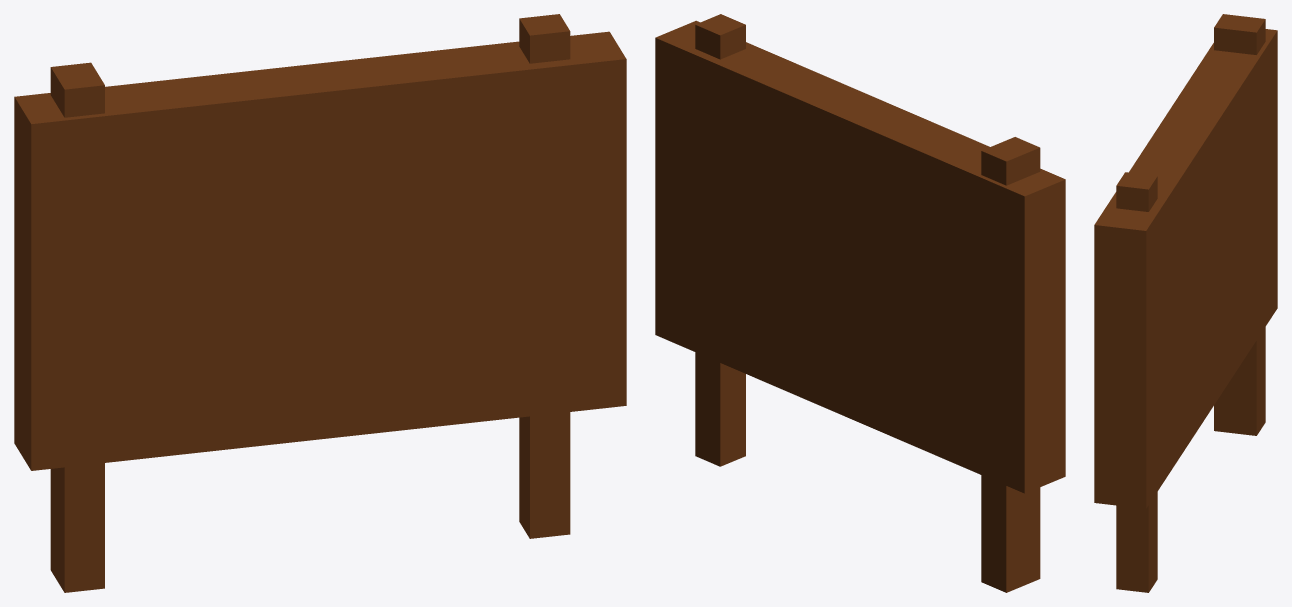
Rendered from MultiplayerBoard2Col.fbx.
3 views of the same model, side by side, from view 1: azimuth 30°, elevation 25°; view 2: azimuth 150°, elevation 25°; view 3: azimuth 270°, elevation 25° (orthographic). The views are drawn at different scales.
Visible parts, largest first — view 1: Cube.782, Cube.772, Cube.777; view 2: Cube.782, Cube.772, Cube.777; view 3: Cube.782, Cube.772, Cube.777.
Boxes of the visible parts, x1,y1,x2,y2 form: Cube.782: (14,31,626,470); Cube.772: (50,62,104,592); Cube.777: (519,14,570,538); Cube.782: (655,20,1065,493); Cube.772: (981,137,1040,592); Cube.777: (695,14,745,466); Cube.782: (1094,29,1277,508); Cube.772: (1214,14,1265,435); Cube.777: (1116,172,1157,592).
Size of the model in its own units: 446 by 406 by 167.
